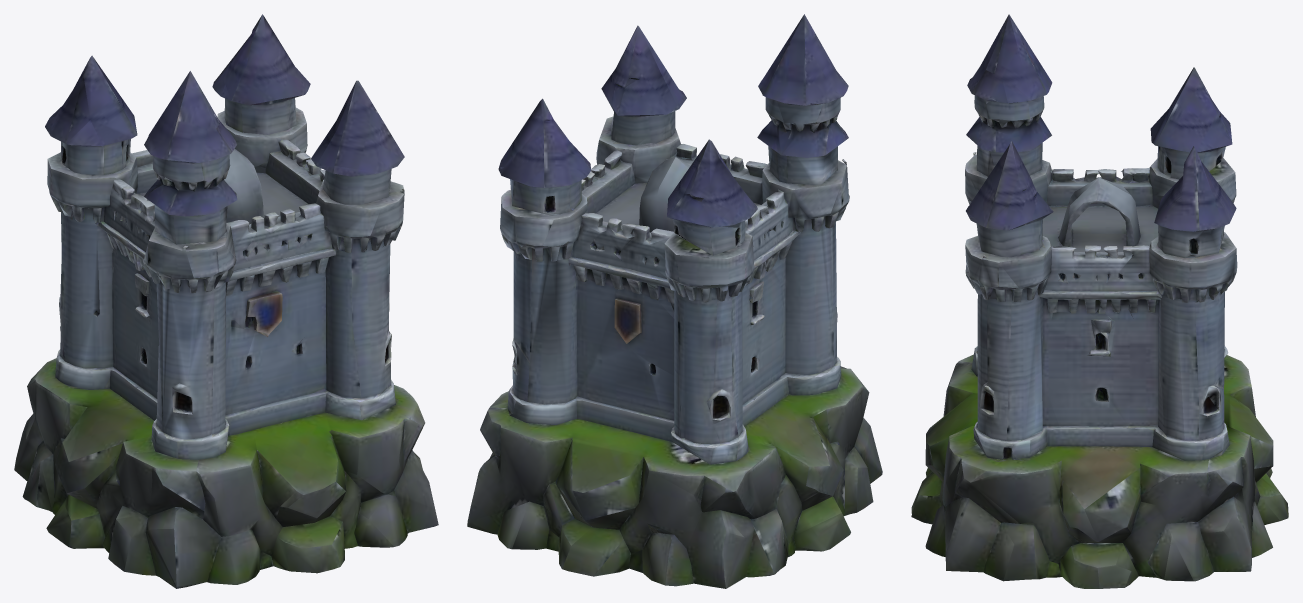
Rendered from castle.glb.
The picture shows the model from 3 angles, left to right: view 1: azimuth 30°, elevation 25°; view 2: azimuth 150°, elevation 25°; view 3: azimuth 270°, elevation 25°; orthographic projection. The views are drawn at different scales.
Visible parts, largest first — view 1: Mesh; view 2: Mesh; view 3: Mesh.
Part boxes in pixels (bbox=[...]): Mesh: bbox=[14, 14, 438, 588]; Mesh: bbox=[467, 14, 882, 588]; Mesh: bbox=[911, 14, 1288, 588].
Bounding box in the file's own units: 1.37 × 1.88 × 1.4.
1 material, 1 textured.
